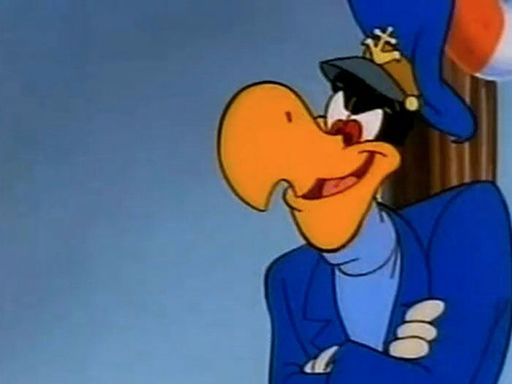urubu: (188, 8, 512, 384)
